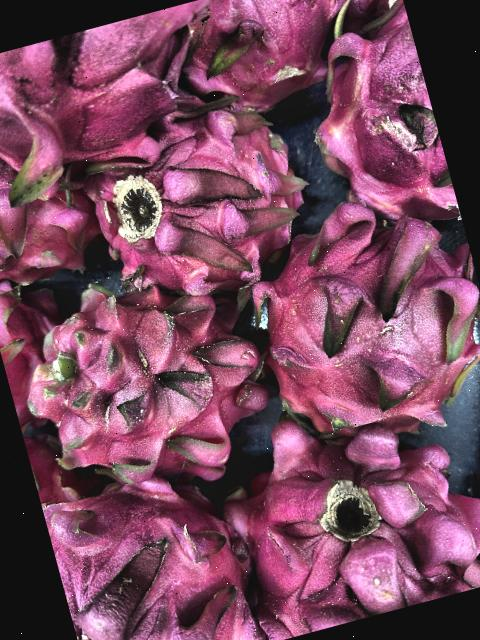buah-naga-matang: (193, 370, 480, 640), (5, 250, 286, 514), (245, 179, 480, 460), (74, 93, 320, 300), (0, 0, 238, 204), (38, 446, 276, 640), (301, 0, 462, 250), (0, 126, 113, 305), (168, 0, 345, 111), (0, 271, 75, 410)
